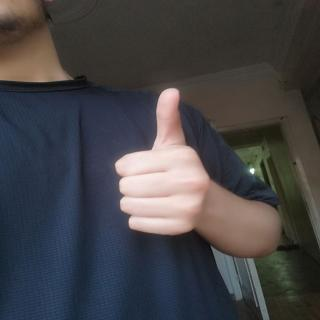ALIF: (108, 78, 246, 247)
